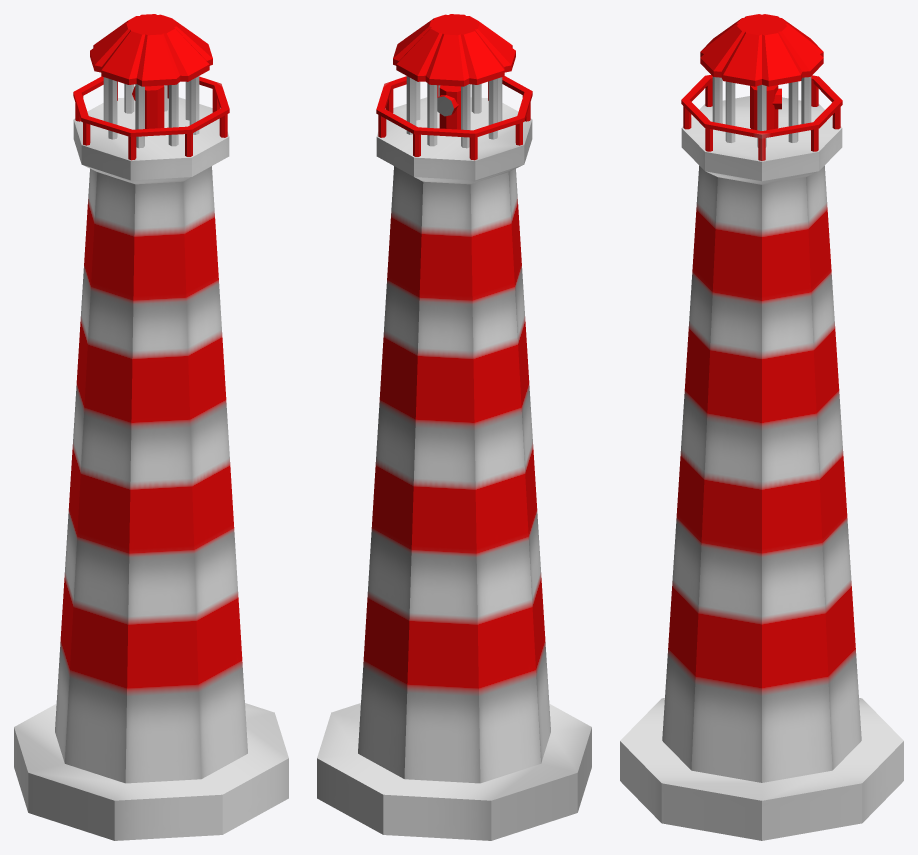
File: Light house.fbx
3 renders of one model, left to right at view 1: azimuth 30°, elevation 25°; view 2: azimuth 150°, elevation 25°; view 3: azimuth 270°, elevation 25°, orthographic.
Parts seen in each view (by area): view 1: Hose001; view 2: Hose001; view 3: Hose001.
Part boxes in pixels (x1=…): Hose001: x1=14, y1=14, x2=288, y2=840; Hose001: x1=317, y1=14, x2=591, y2=840; Hose001: x1=620, y1=14, x2=903, y2=840.
Bounding box in the file's own units: 174 × 511 × 174.
